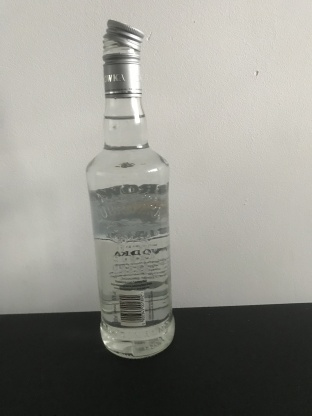nakretka: (100, 17, 145, 99)
